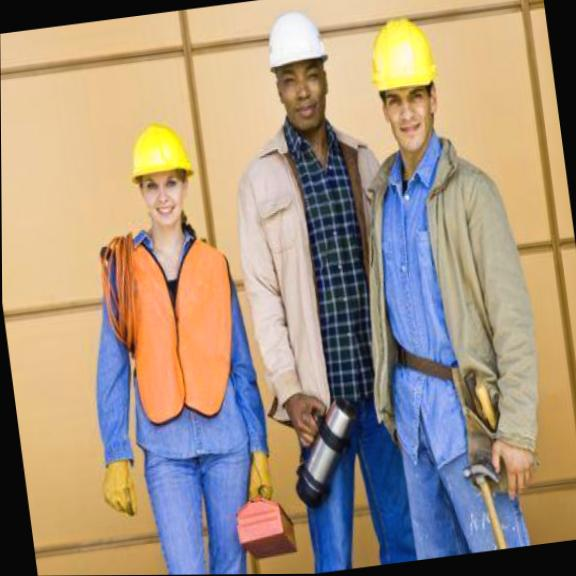no_safety_vest: (229, 118, 407, 435), (348, 151, 529, 434)
safety_vest: (99, 222, 262, 434)
